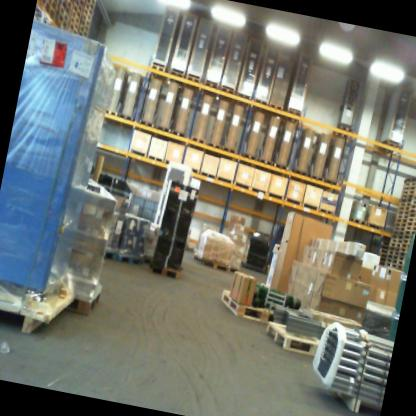pallet: (0, 275, 74, 349), (263, 320, 334, 363), (214, 282, 281, 324), (60, 272, 111, 322), (191, 252, 242, 278), (149, 260, 183, 282), (373, 136, 403, 160), (116, 246, 144, 267), (147, 60, 169, 85), (167, 125, 190, 148), (135, 113, 156, 137), (328, 122, 354, 141), (283, 104, 302, 129), (189, 131, 209, 151), (100, 108, 120, 128), (251, 92, 271, 112), (183, 69, 202, 90), (164, 65, 185, 83), (365, 220, 388, 236), (201, 77, 219, 97), (346, 214, 367, 231), (101, 243, 120, 261), (118, 111, 138, 128), (220, 141, 241, 157), (206, 137, 225, 154), (232, 89, 253, 104), (154, 123, 171, 141), (267, 98, 285, 114), (291, 166, 311, 180), (270, 162, 291, 175), (255, 154, 274, 168), (217, 84, 233, 100), (320, 205, 337, 220), (309, 172, 326, 186), (141, 249, 154, 267), (322, 177, 339, 190), (198, 170, 216, 182), (145, 154, 164, 165), (240, 151, 256, 163)
